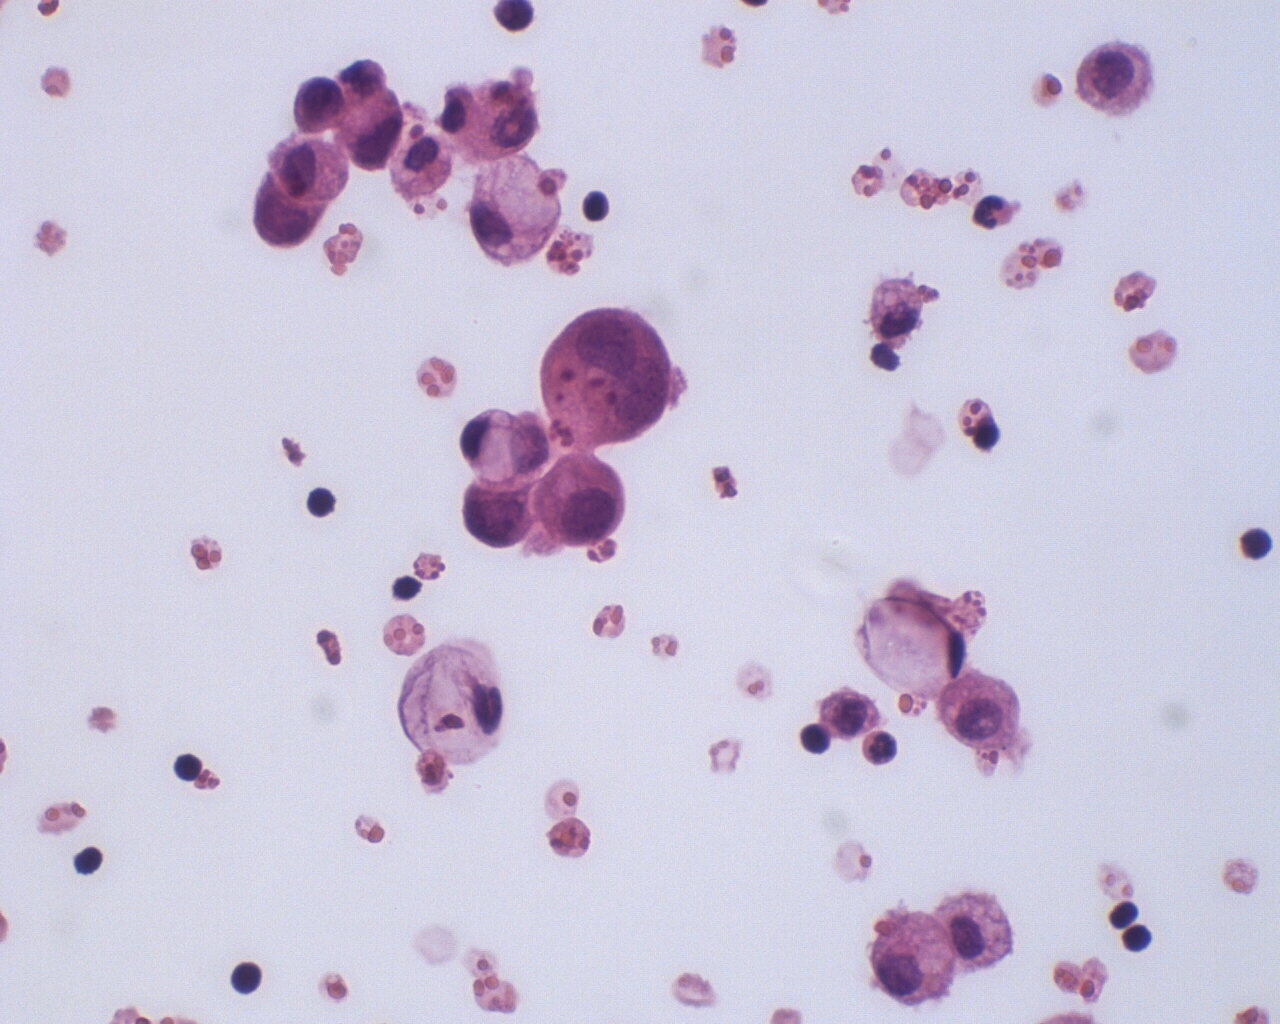ab: (533, 301, 674, 448), (459, 475, 536, 553), (338, 85, 403, 170), (249, 177, 322, 248), (292, 74, 346, 135)
histo: (400, 632, 506, 765), (855, 594, 969, 698), (467, 152, 565, 269), (456, 406, 535, 480)
lymph: (1232, 523, 1276, 569), (227, 956, 271, 1000), (792, 718, 832, 759), (305, 482, 340, 521), (579, 185, 611, 225), (170, 749, 206, 785), (1121, 920, 1154, 954)
meso: (530, 448, 628, 548), (868, 908, 957, 1009), (1070, 37, 1160, 121), (933, 668, 1019, 748), (939, 890, 1016, 972)
neutro: (972, 192, 1019, 236), (861, 730, 898, 768)
